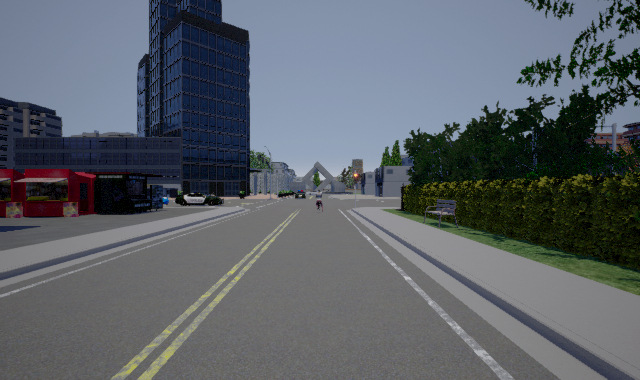bike: (313, 190, 324, 213)
traffic_light: (354, 171, 357, 182)
vehicle: (175, 192, 224, 206), (296, 189, 307, 198)
